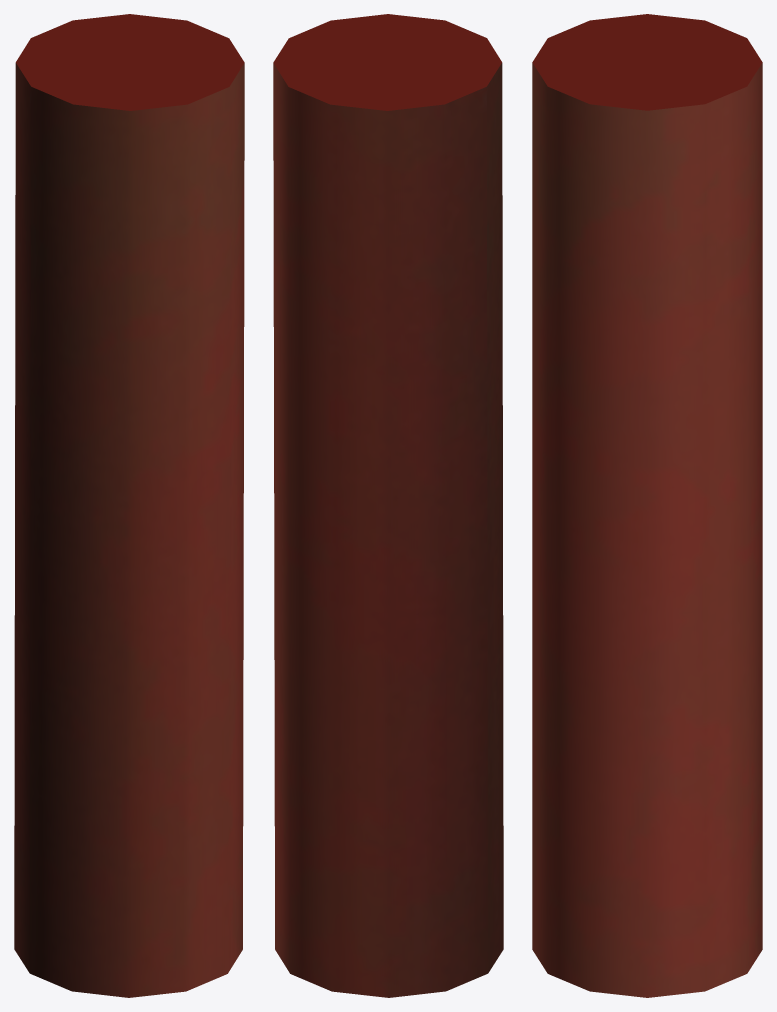
The model's file is extintor_manguera_recta_sola.fbx.
3 renders of one model, left to right at view 1: azimuth 30°, elevation 25°; view 2: azimuth 150°, elevation 25°; view 3: azimuth 270°, elevation 25°, orthographic.
Visible parts, largest first — view 1: fire_extinguisher_c02; view 2: fire_extinguisher_c02; view 3: fire_extinguisher_c02.
Part boxes in pixels (x1,y1,x2,y2): fire_extinguisher_c02: (14, 14, 244, 997); fire_extinguisher_c02: (273, 14, 503, 997); fire_extinguisher_c02: (532, 14, 762, 997).
Size of the model in its own units: 1.56 by 6.64 by 1.56.
1 material, 1 textured.
